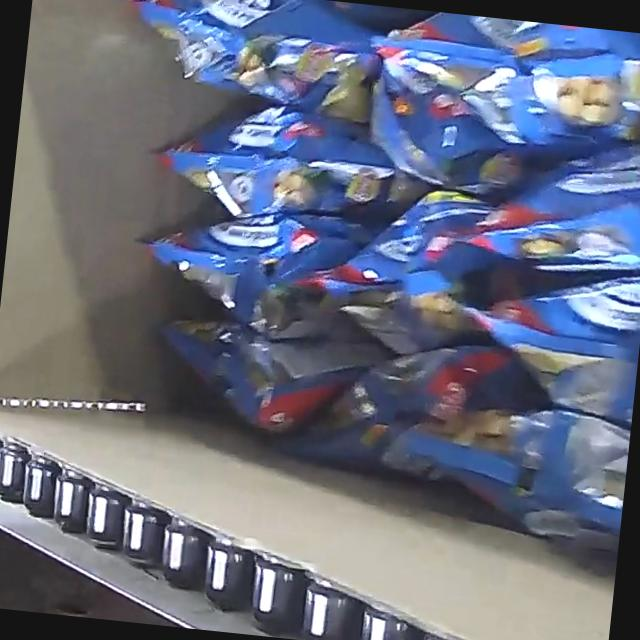paprika: (79, 0, 640, 556)
